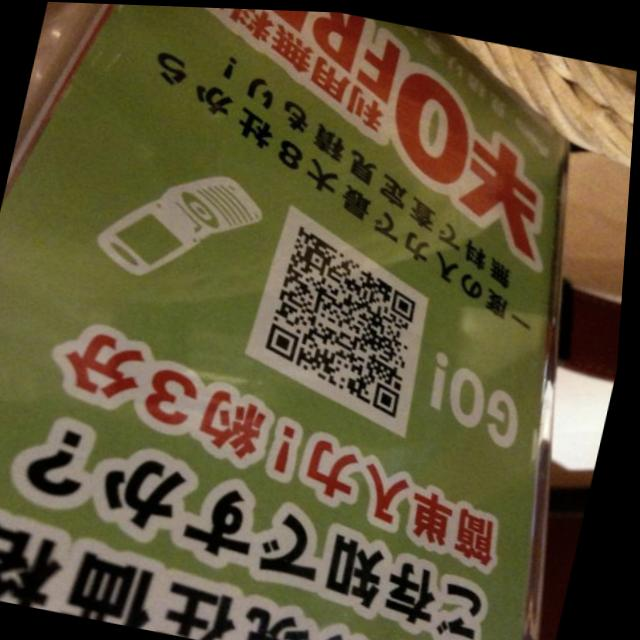qrcode: (260, 222, 437, 416)
